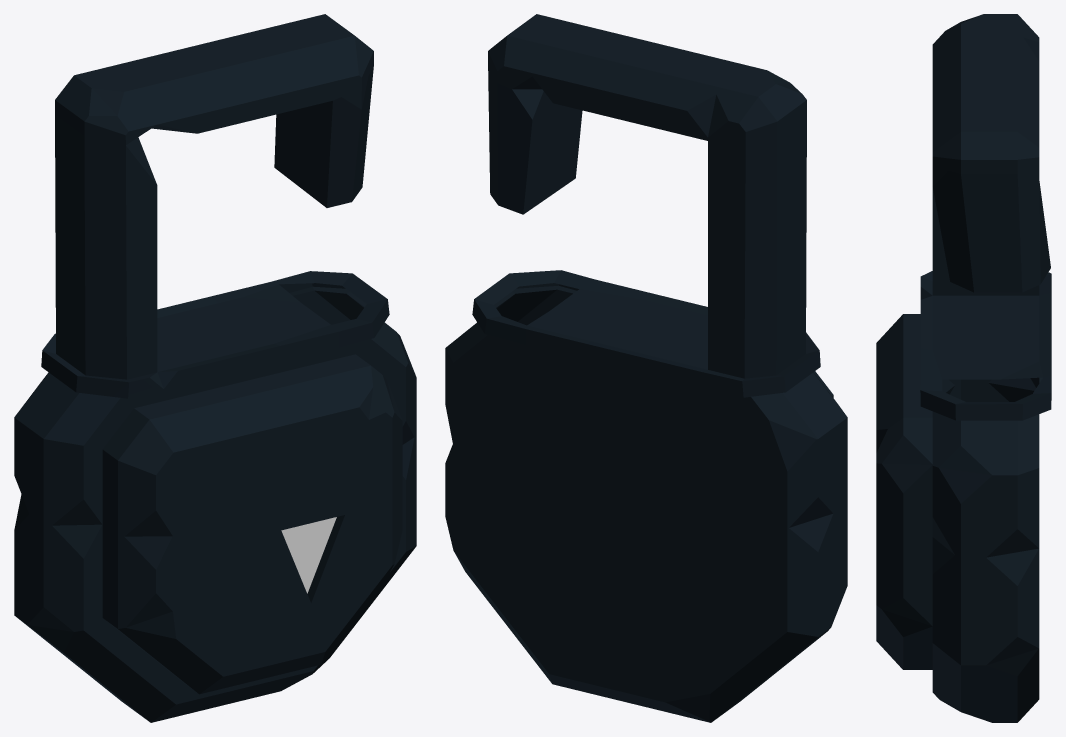
Rendered from black_unlock.glb.
The picture shows the model from 3 angles, left to right: view 1: azimuth 30°, elevation 25°; view 2: azimuth 150°, elevation 25°; view 3: azimuth 270°, elevation 25°; orthographic projection. The views are drawn at different scales.
Parts seen in each view (by area): view 1: Circle.017; view 2: Circle.017; view 3: Circle.017.
Boxes of the visible parts, x1,y1,x2,y2 form: Circle.017: [14, 14, 416, 722]; Circle.017: [445, 14, 847, 722]; Circle.017: [876, 14, 1051, 722].
Bounding box in the file's own units: 2 × 3.27 × 0.8475.
Materials: 1 (1 with a texture image).
